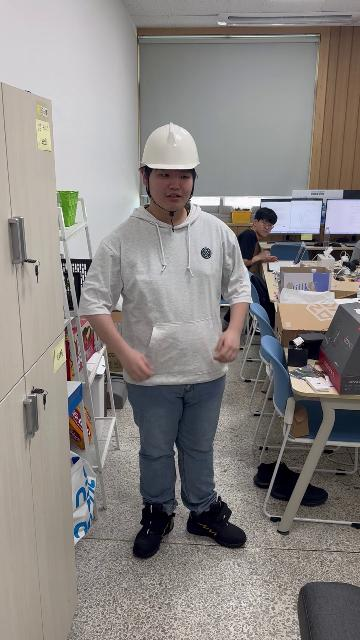helmet_worn: (139, 121, 202, 170)
shoe_not_worn: (256, 461, 326, 504), (254, 460, 287, 489)
shoe_worn: (186, 496, 246, 548), (132, 503, 176, 558)
vest_not_worn: (108, 214, 239, 384)
